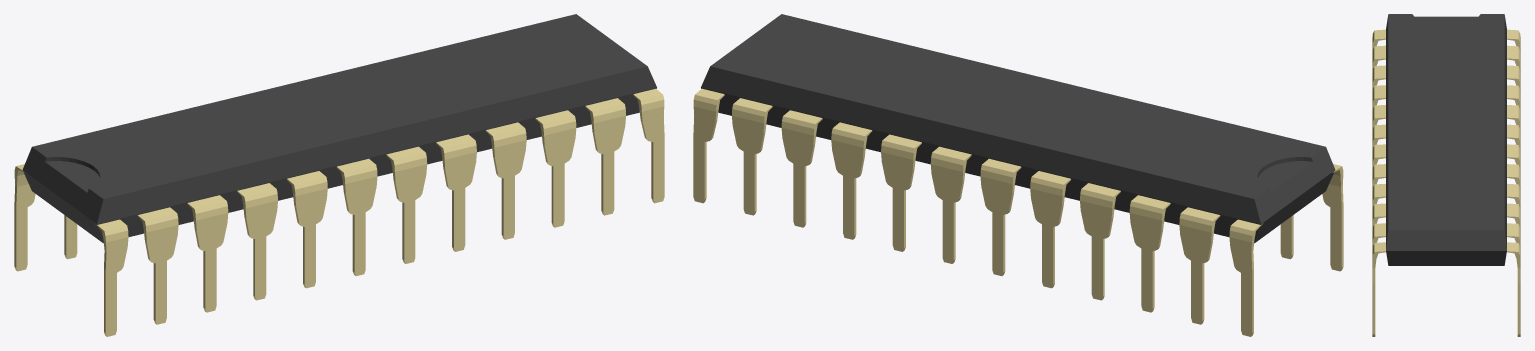
The picture shows the model from 3 angles, left to right: view 1: azimuth 30°, elevation 25°; view 2: azimuth 150°, elevation 25°; view 3: azimuth 270°, elevation 25°; orthographic projection. The views are drawn at different scales.
Visible parts, largest first — view 1: Cube; view 2: Cube; view 3: Cube.
Boxes of the visible parts, bbox=[...] form: Cube: bbox=[14, 14, 664, 336]; Cube: bbox=[693, 14, 1343, 336]; Cube: bbox=[1372, 14, 1520, 336].
Bounding box in the file's own units: 1126 × 248 × 318.
